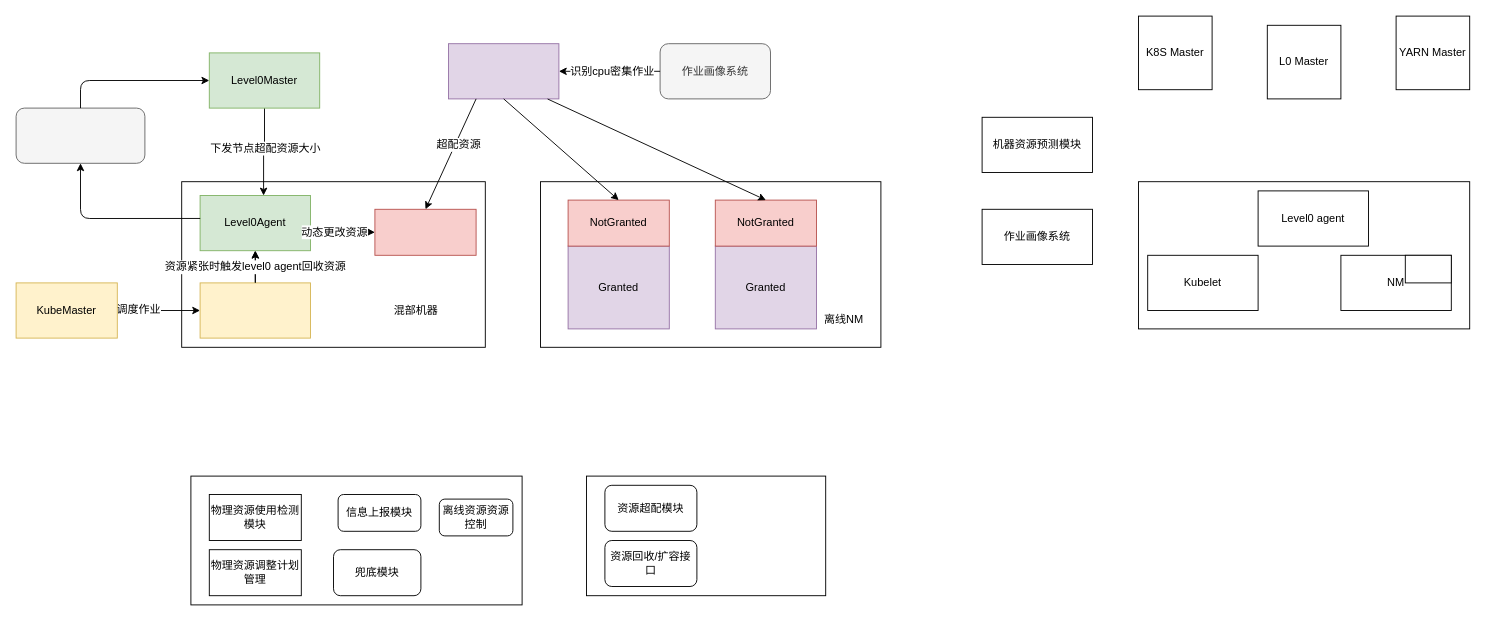
Image size: 1486x621. Some labels were removed from this diagram. The shapes that lost their labels are listed below. From the top down, each one's box as (x1, y1, x2, y2) in pixels, then its label:
(448, 43, 559, 99): RM
(15, 107, 145, 163): 机器资源使用预测系统
(374, 208, 476, 255): NM（NotGranted）
(1404, 254, 1451, 283): 资源协调
(199, 282, 310, 338): Kubelete
